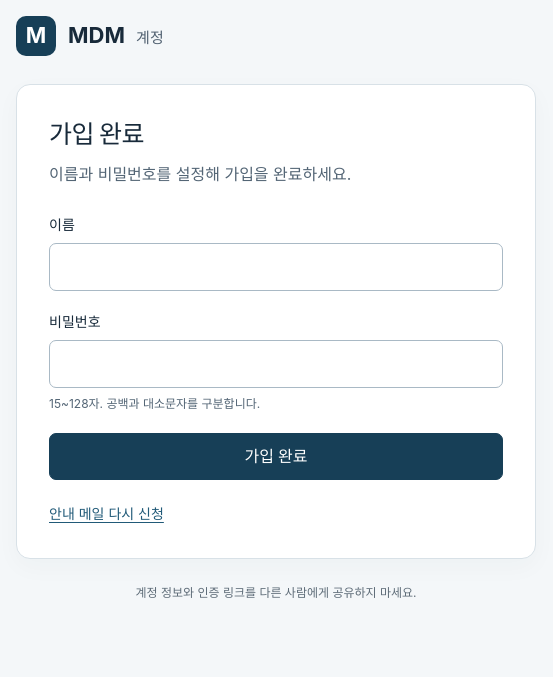
authentication screens › retains the email token on 422 and submits it only to registration completion
Type "사용자" into the field labelled "이름" at (276, 267), box x1=49 y1=243 x2=503 y2=291
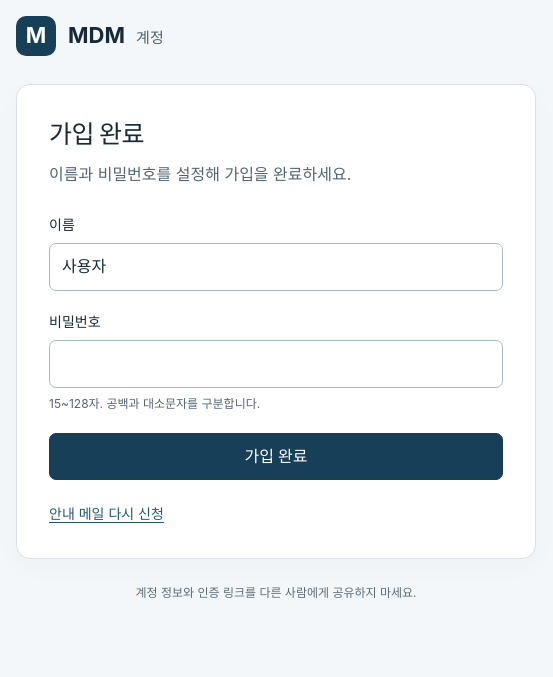
Type "a long password phrase" into the password field labelled "비밀번호" at (276, 364), box x1=49 y1=340 x2=503 y2=388
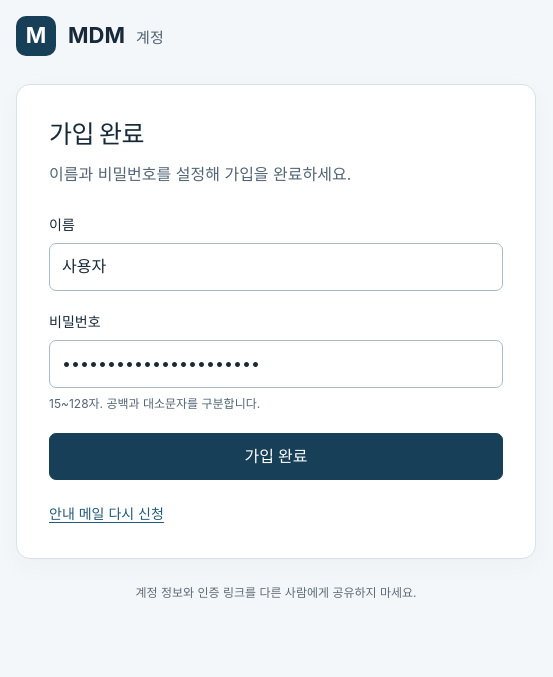
Click the button "가입 완료" at (276, 457), box x1=49 y1=433 x2=503 y2=480
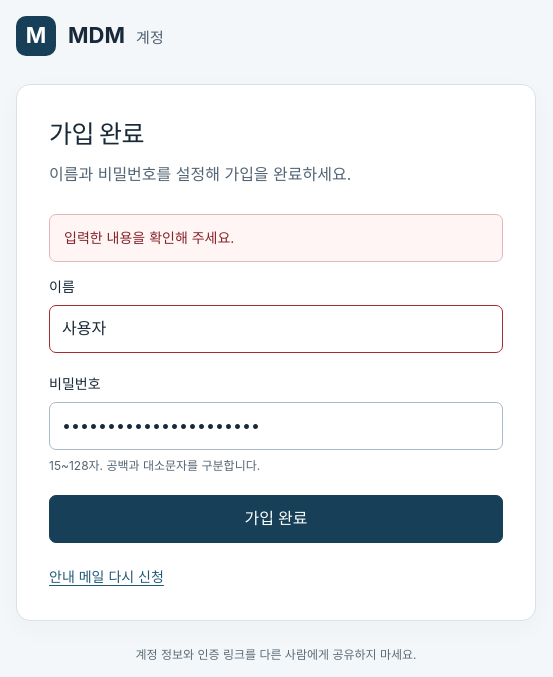
Now the field labelled "이름" is marked as invalid, box x1=49 y1=305 x2=503 y2=353
Click the button "가입 완료" at (276, 519), box x1=49 y1=495 x2=503 y2=543
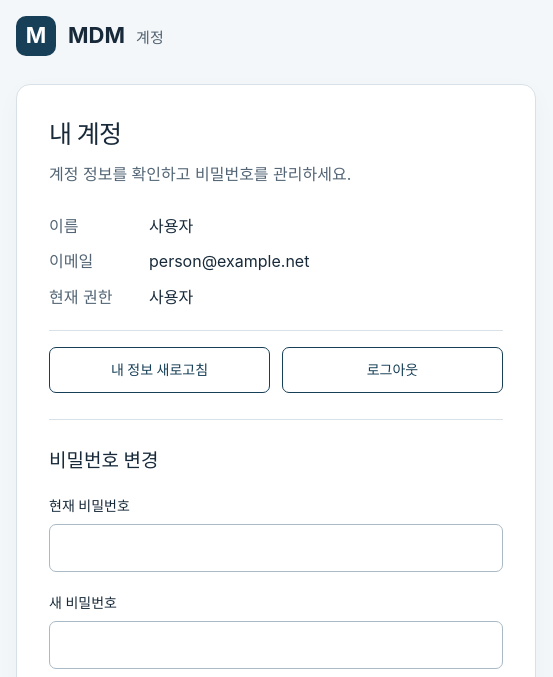
Now the heading "내 계정" is shown, box x1=49 y1=119 x2=122 y2=149
